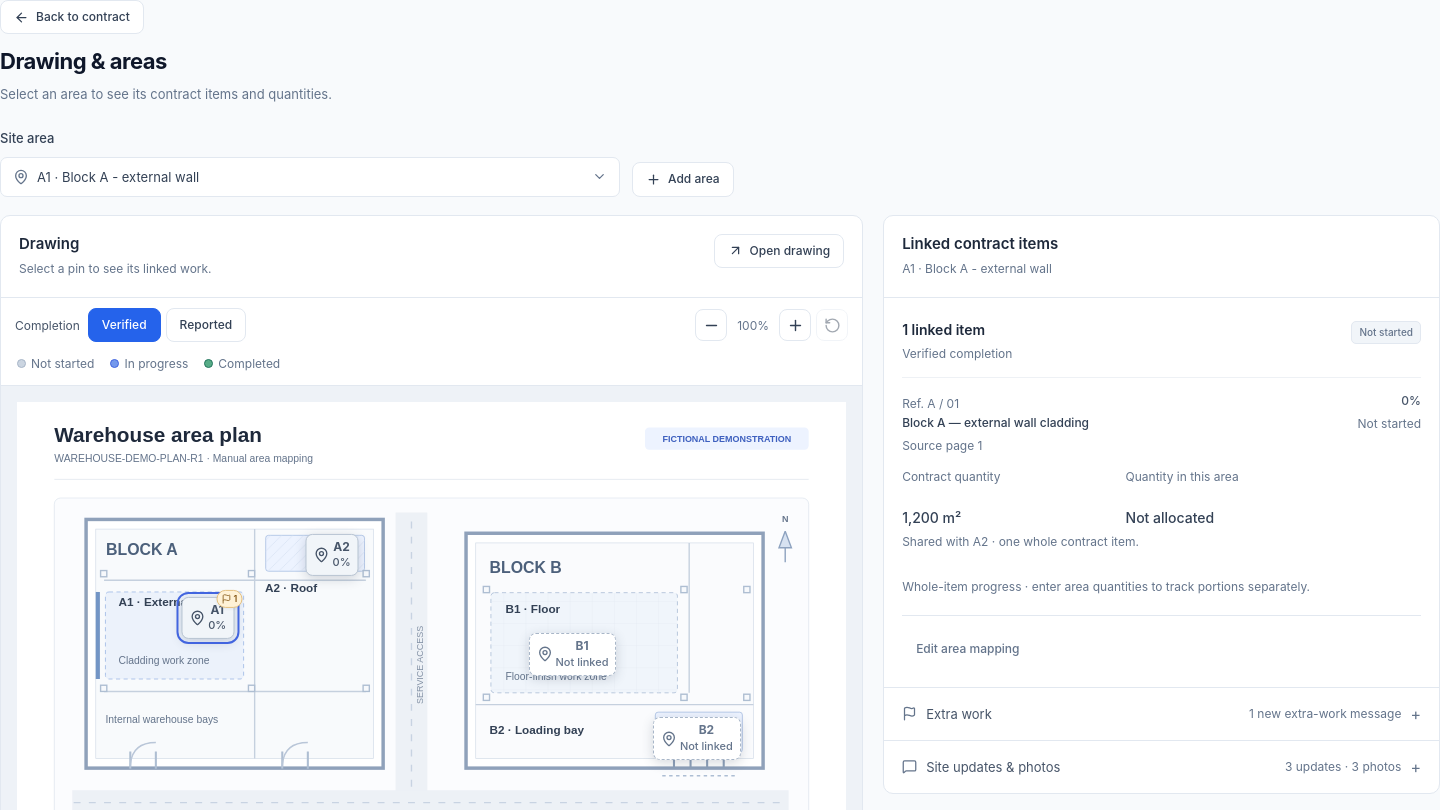
Test case: simple alternate area names field › focuses the alternate names field for a domain validation error
Step 1. Click the button "Edit area mapping" → [968, 649], box [902,632,1034,666]
(page scrolled)
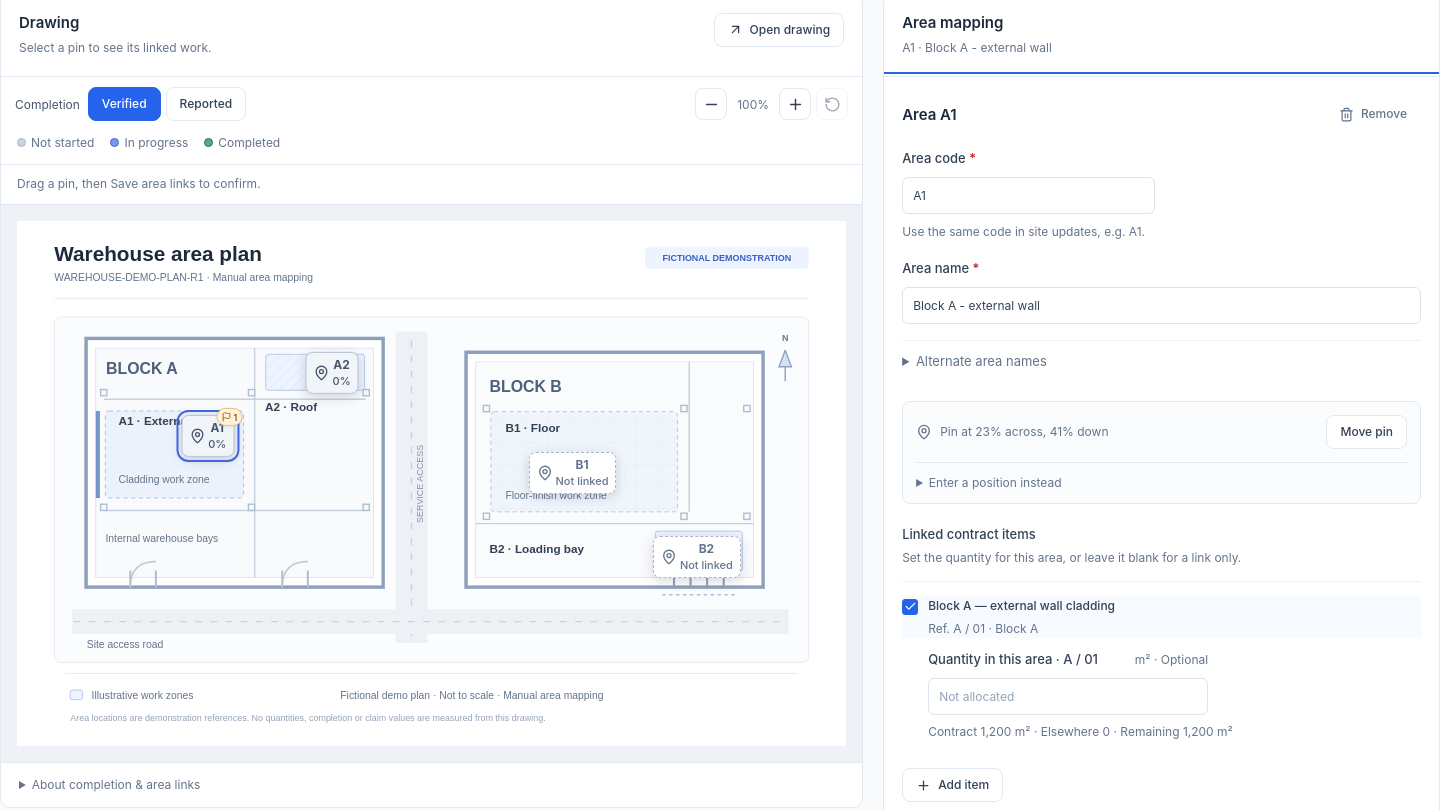
Step 2. Click the heading "Alternate area names" → [981, 361], box [916,353,1047,369]
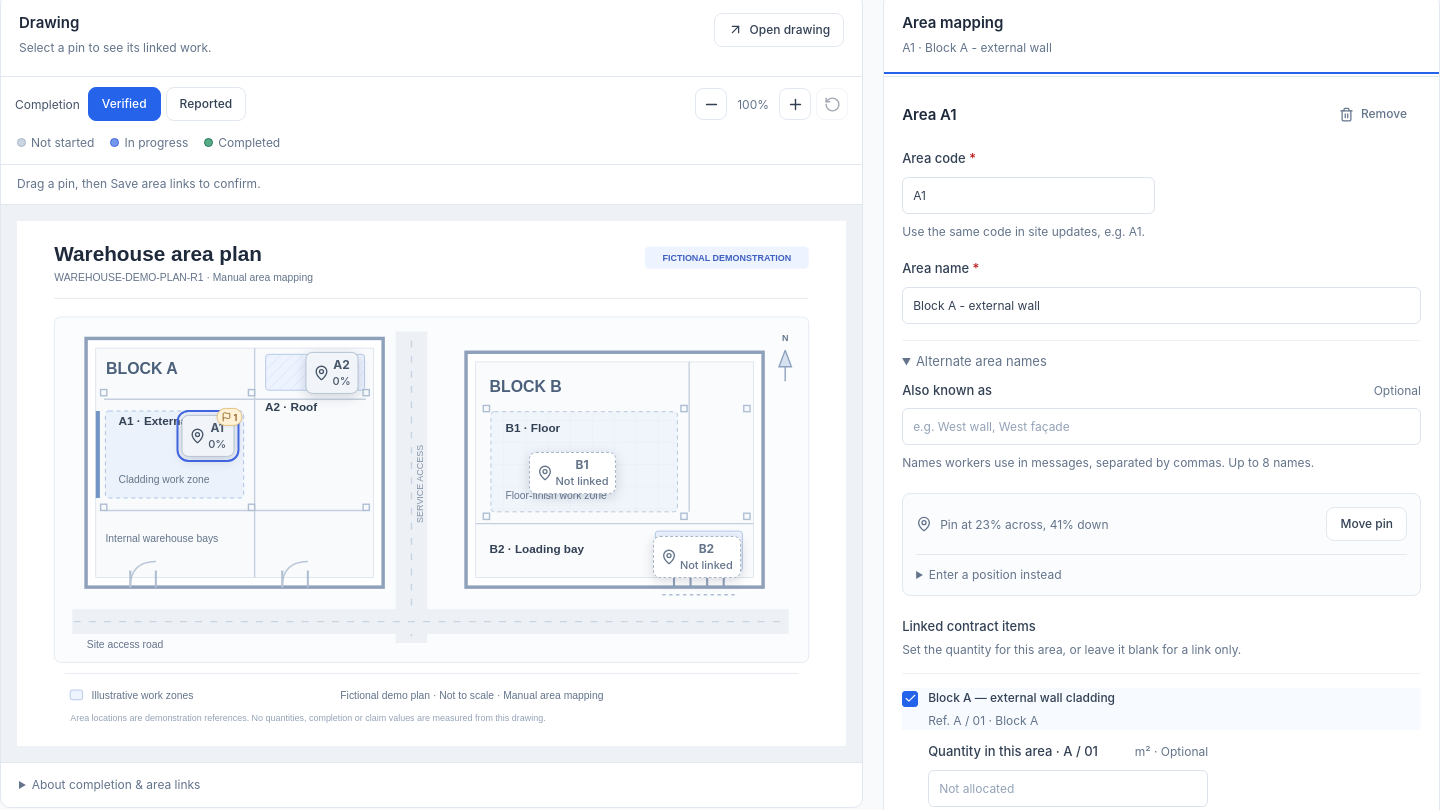
Step 3. Type "West wall" into the field labelled "Also known as Optional" → [1162, 427], box [902,408,1421,446]
(page scrolled)
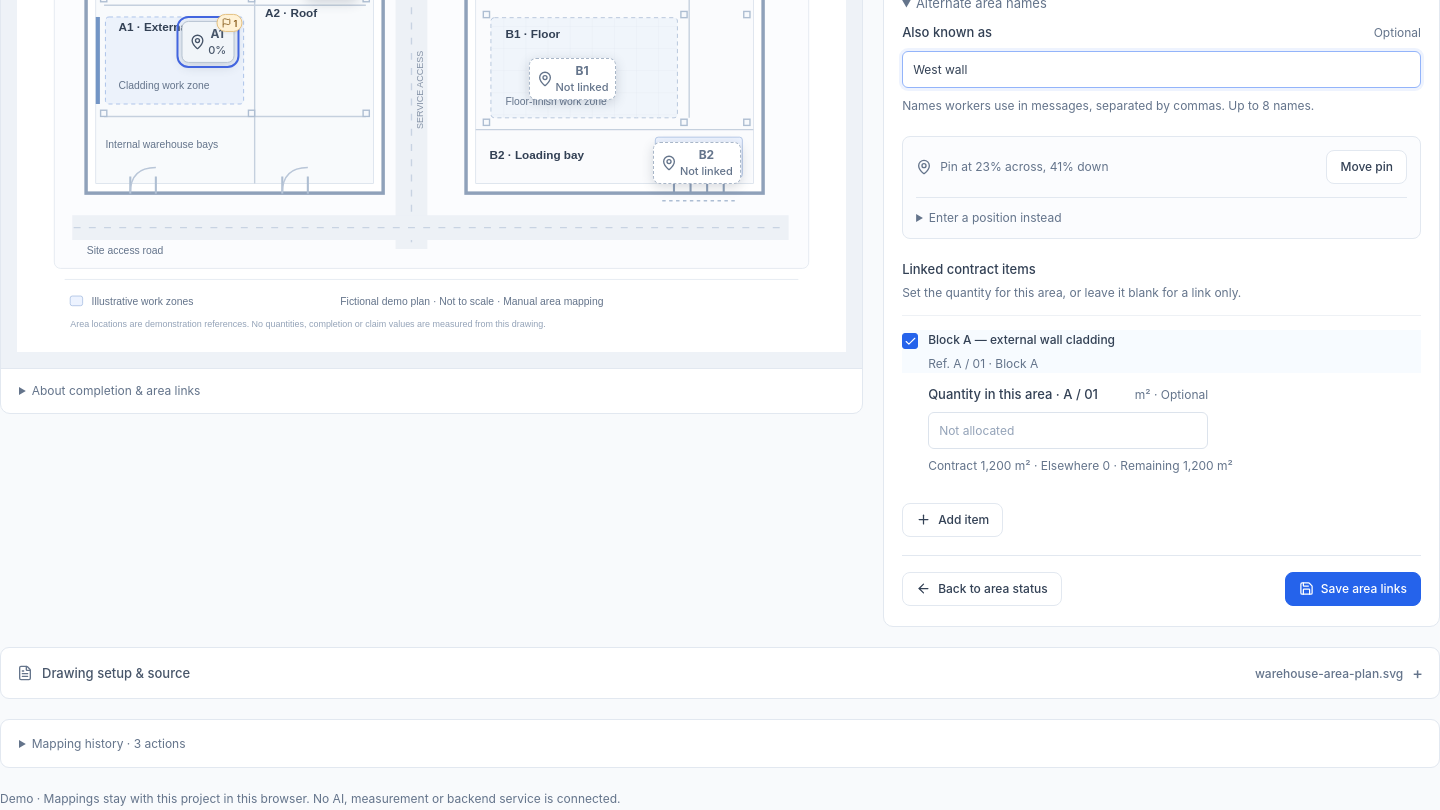
Step 4. Click the button "Save area links" → [1353, 589], box [1285,572,1421,606]
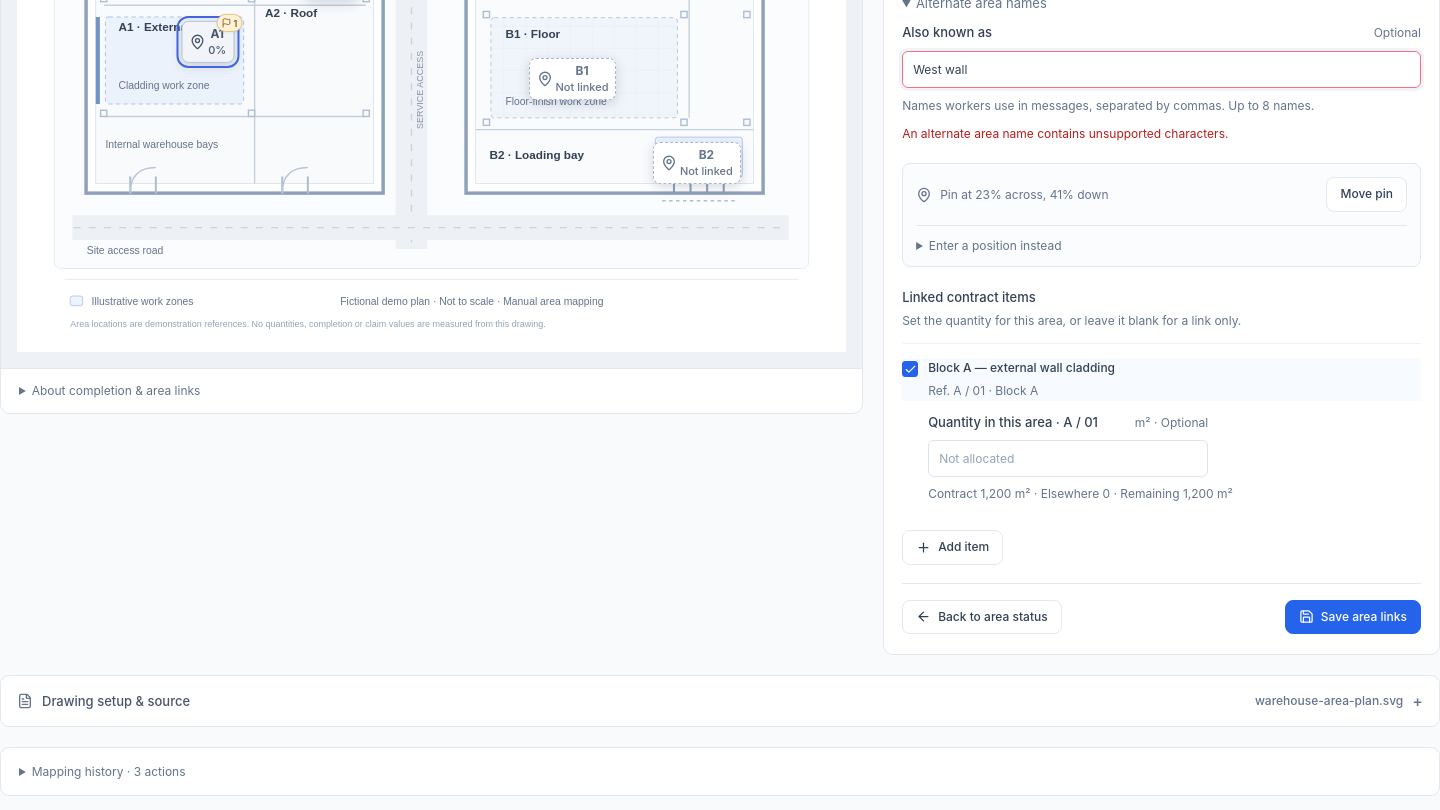
Result: the message shows "unsupported characters" at [902,126,1228,141]
